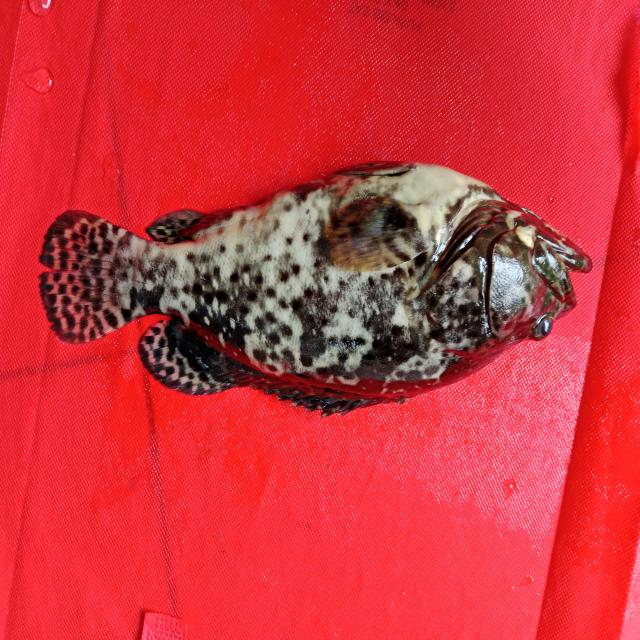ikan: (21, 134, 613, 443)
